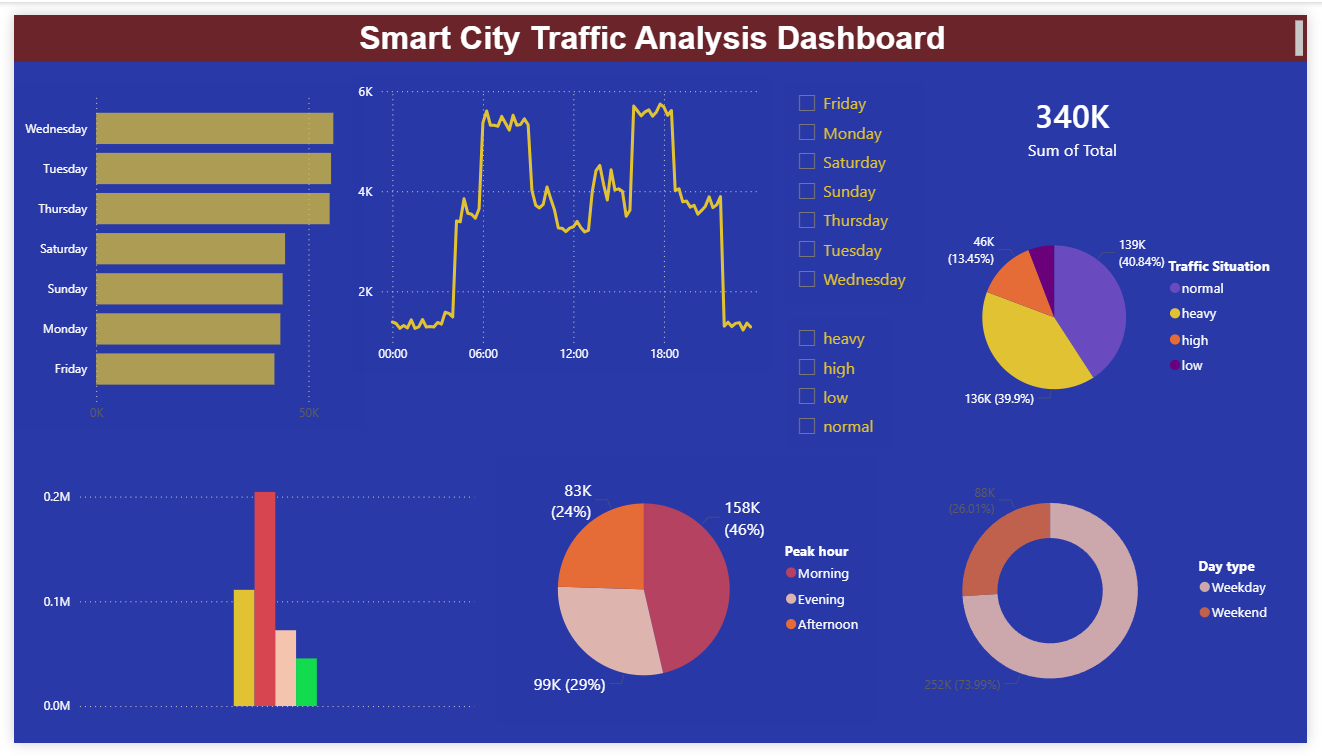

The page's visual inventory and layout, read from the dashboard file:
{"tool":"powerbi","page":{"name":"Page 4","canvas":[1280,720],"ordinal":3},"visuals":[{"type":"textbox","box":[0,0,1280.7,46.1],"z":0},{"type":"clusteredBarChart","fields":{"Category":["traffic month1-cleaned.Day of the week"],"Y":["Sum(traffic month1-cleaned.Total)"]},"box":[0,66.9,348.1,343.6],"z":1000},{"type":"pieChart","fields":{"Category":["traffic month1-cleaned.Traffic Situation"],"Y":["Sum(traffic month1-cleaned.Total)"]},"box":[910.3,175.5,345.1,246.9],"z":2000},{"type":"cardVisual","fields":{"Data":["Sum(traffic month1-cleaned.Total)"]},"box":[968.3,61,157.7,98.2],"z":3000},{"type":"clusteredColumnChart","fields":{"Y":["Sum(traffic_month2_cleaned.TruckCount)","Sum(traffic month1-cleaned.CarCount)","Sum(traffic_month2_cleaned.BikeCount)","Sum(traffic month1-cleaned.BusCount)"]},"box":[23.8,410.5,437.3,287.1],"z":4000},{"type":"pieChart","fields":{"Category":["traffic month1-cleaned.Peak hour "],"Y":["Sum(traffic month1-cleaned.Total)"]},"box":[477.5,435.8,374.8,263.3],"z":5000},{"type":"slicer","fields":{"Values":["traffic month1-cleaned.Day of the week"]},"box":[763,66.9,135.4,217.2],"z":6000},{"type":"slicer","fields":{"Values":["traffic month1-cleaned.Traffic Situation"]},"box":[763,300.5,104.1,129.4],"z":7000},{"type":"lineChart","fields":{"Category":["traffic month1-cleaned.Time"],"Y":["Sum(traffic month1-cleaned.Total)"]},"box":[334.7,61,413.5,291.5],"z":8000},{"type":"donutChart","fields":{"Category":["traffic month1-cleaned.Day type "],"Y":["Sum(traffic month1-cleaned.Total)"]},"box":[873.1,437.3,382.3,263.3],"z":9000}]}

Visuals, with their boxes in screenshot pixels (x1, y1, x2, y2), scaled from the page's 1280x720 canvas onto the 1322x756 screenshot:
textbox: x1=0, y1=0, x2=1321, y2=48
clusteredBarChart - traffic month1-cleaned.Day of the week x Sum(traffic month1-cleaned.Total): x1=0, y1=70, x2=360, y2=431
pieChart - traffic month1-cleaned.Traffic Situation x Sum(traffic month1-cleaned.Total): x1=940, y1=184, x2=1297, y2=444
cardVisual - Sum(traffic month1-cleaned.Total): x1=1000, y1=64, x2=1163, y2=167
clusteredColumnChart - Sum(traffic_month2_cleaned.TruckCount) x Sum(traffic month1-cleaned.CarCount): x1=25, y1=431, x2=476, y2=732
pieChart - traffic month1-cleaned.Peak hour  x Sum(traffic month1-cleaned.Total): x1=493, y1=458, x2=880, y2=734
slicer - traffic month1-cleaned.Day of the week: x1=788, y1=70, x2=928, y2=298
slicer - traffic month1-cleaned.Traffic Situation: x1=788, y1=316, x2=896, y2=451
lineChart - traffic month1-cleaned.Time x Sum(traffic month1-cleaned.Total): x1=346, y1=64, x2=773, y2=370
donutChart - traffic month1-cleaned.Day type  x Sum(traffic month1-cleaned.Total): x1=902, y1=459, x2=1297, y2=736
